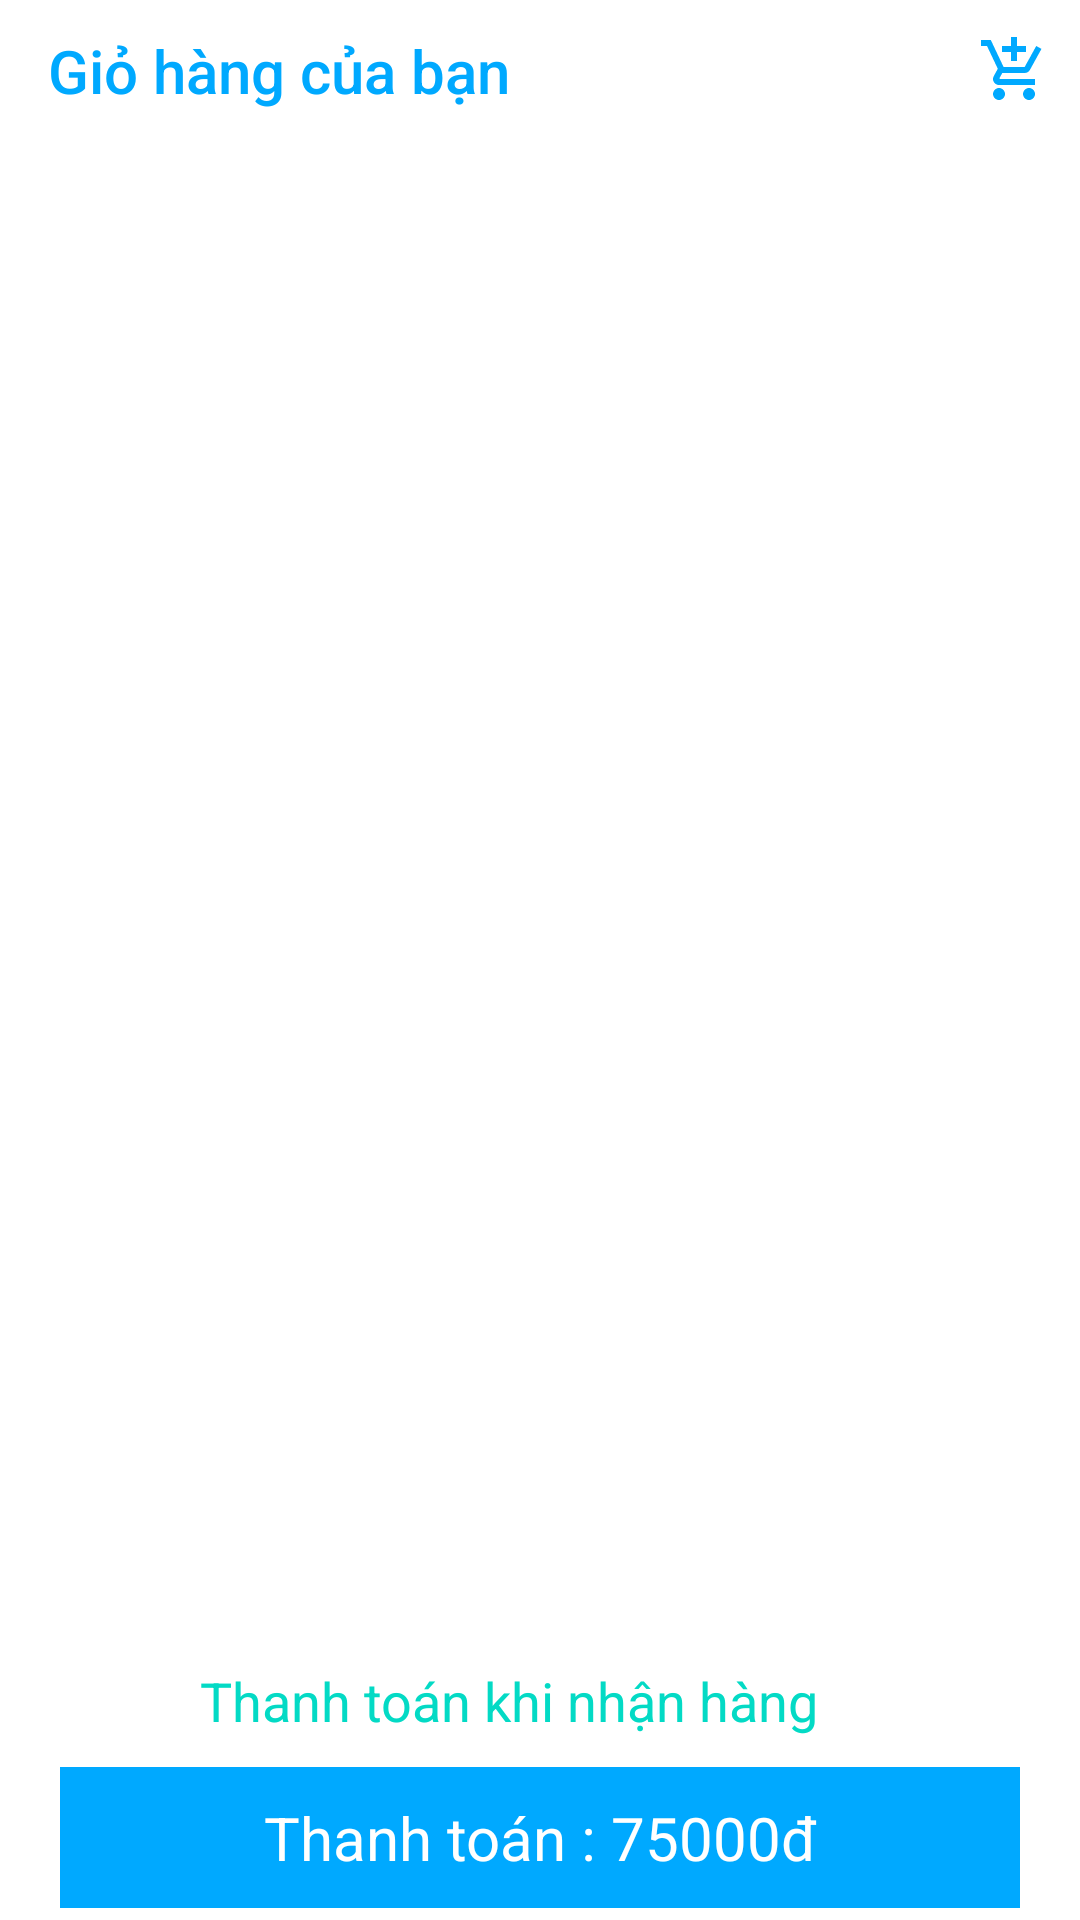

Screen size 1080px×1920px. Icon name, then its box in pixels as (x1, y1, x2, y2):
cart: (981, 37, 1042, 100)
